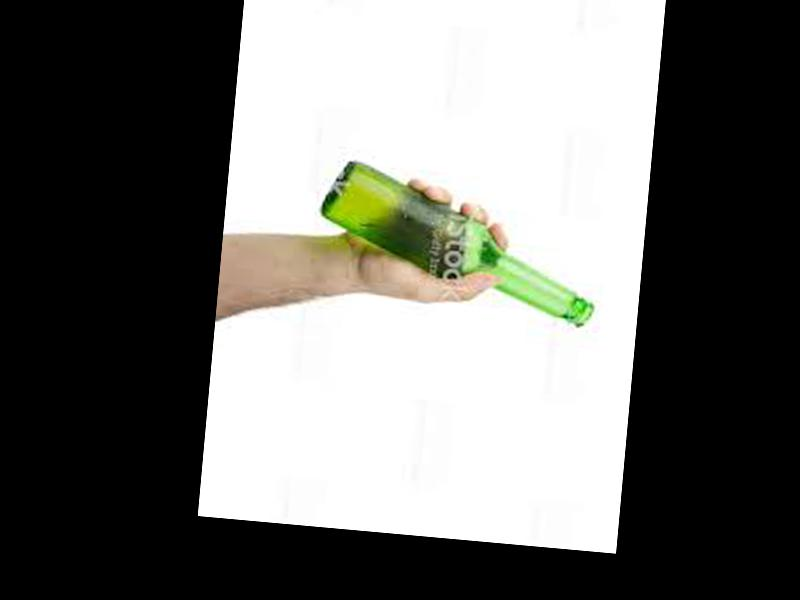Beer: (315, 158, 607, 329)
